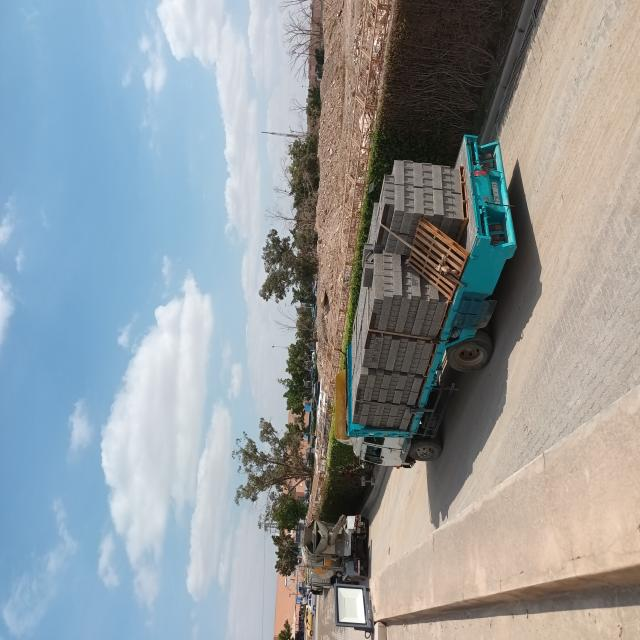bricks: (351, 161, 469, 437)
